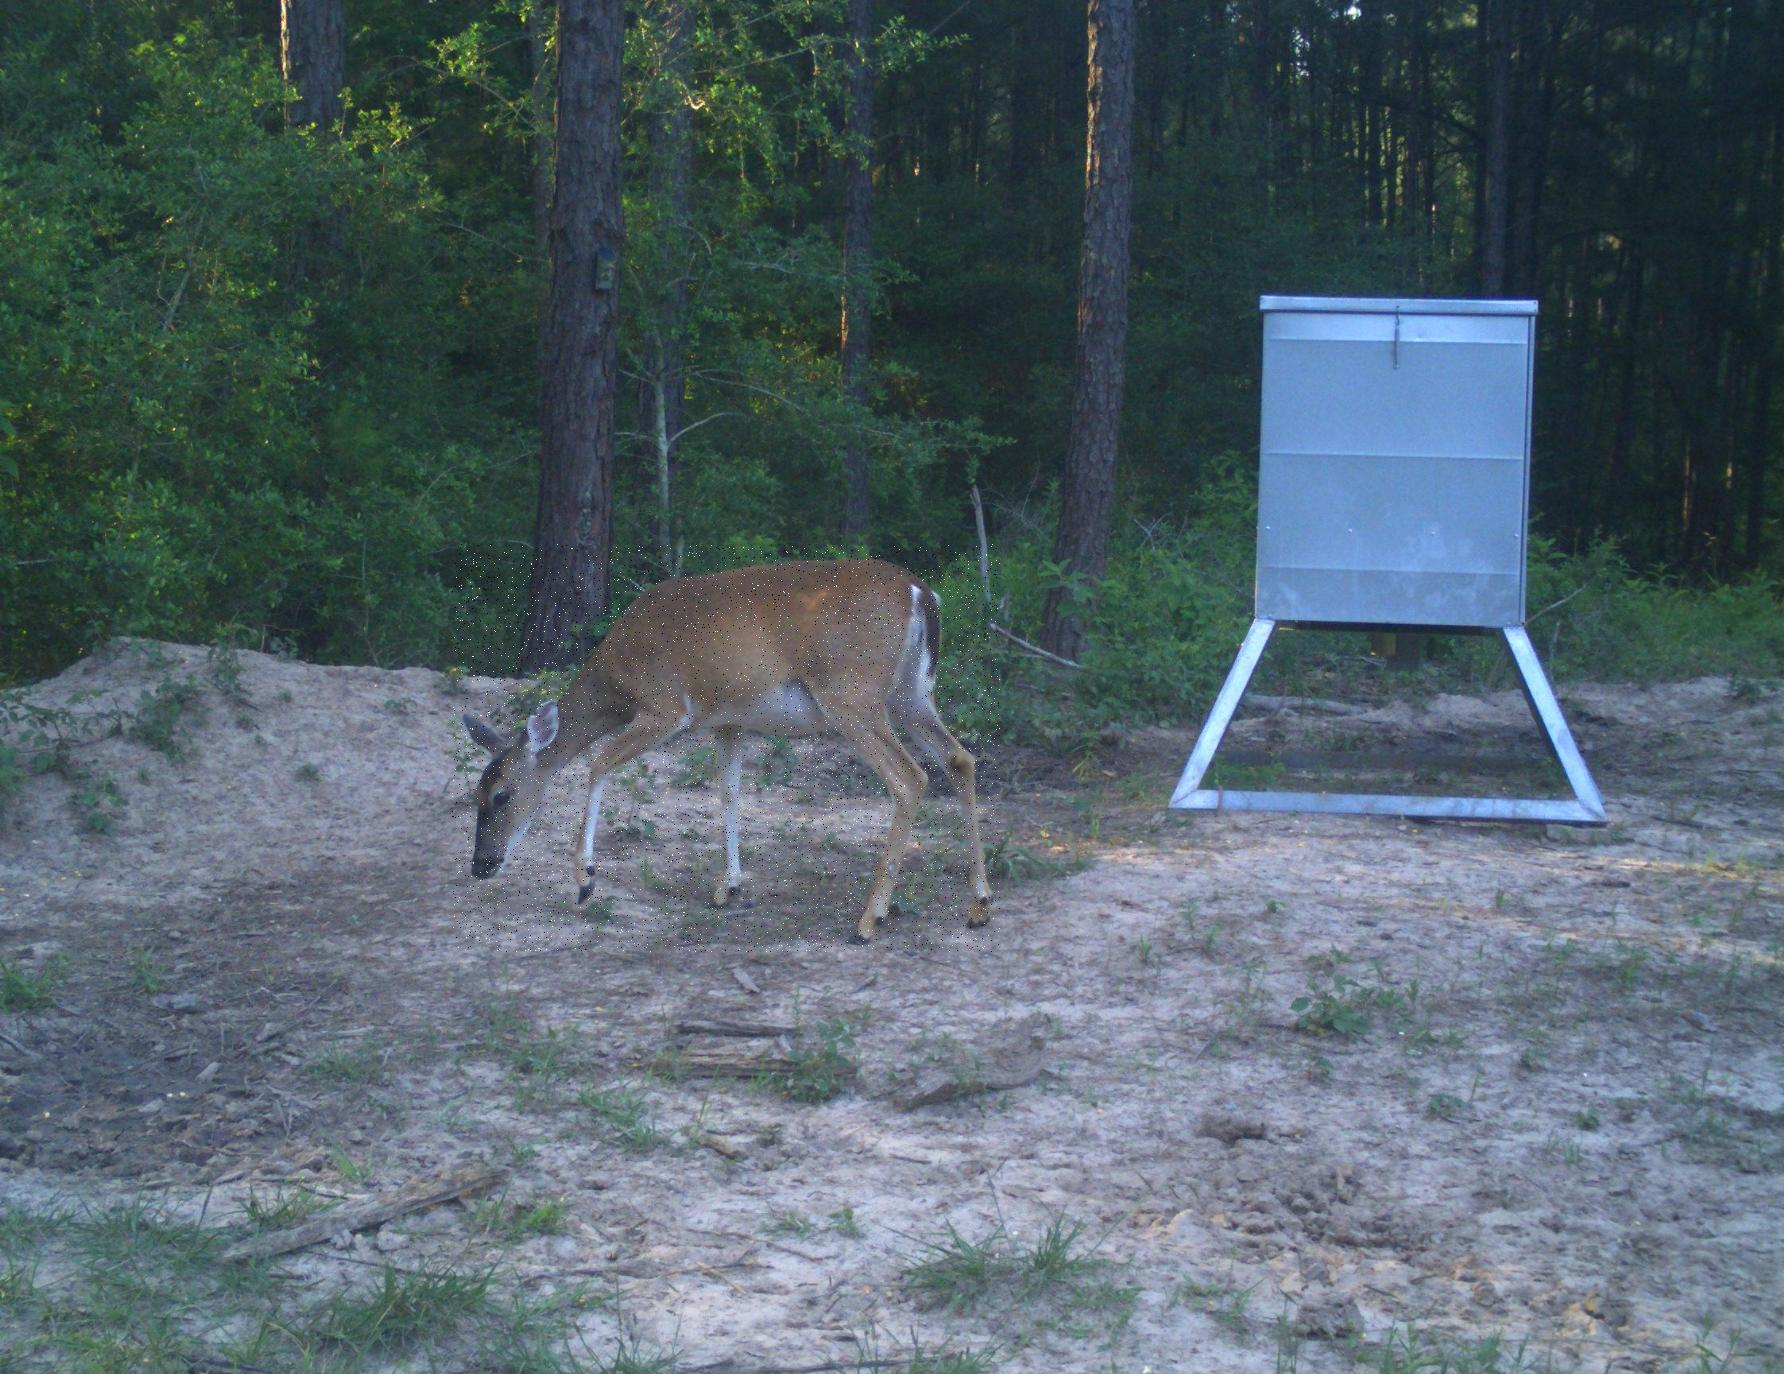Deer: (452, 544, 1000, 953)
